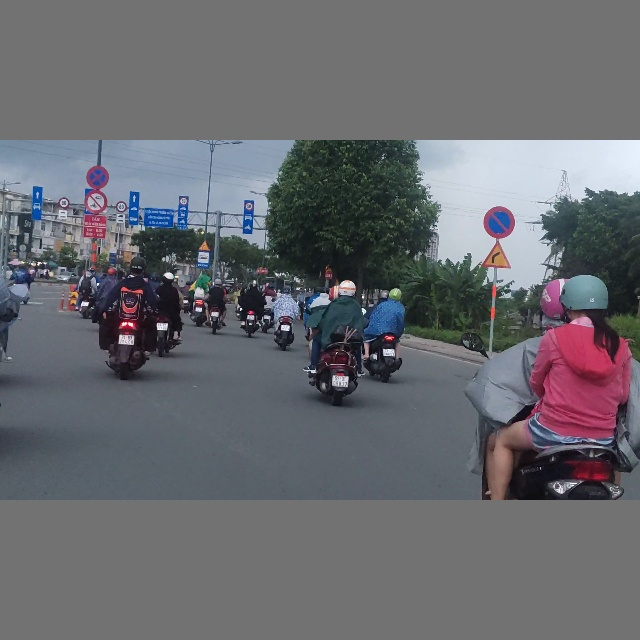I.434a: (196, 251, 210, 269)
P.111: (85, 190, 108, 214)
P.127*50: (245, 202, 254, 210), (180, 196, 187, 206)
P.127*60: (116, 201, 127, 212)
P.127*80: (59, 197, 69, 208)
P.130: (86, 164, 109, 189)
P.131a: (481, 205, 515, 239)
S.505a*Xe tai va cong: (116, 213, 125, 223)
W.201b: (479, 240, 511, 268), (198, 240, 212, 252)
